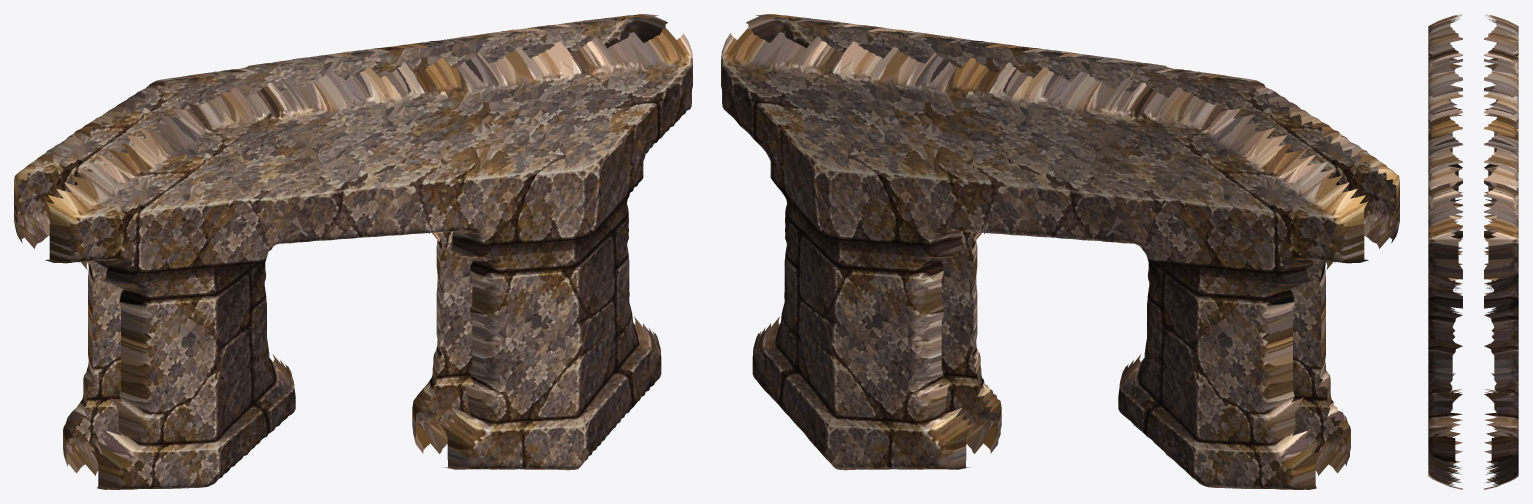
File: v4-crypt-chamber-scatter-empty-altar.glb
The picture shows the model from 3 angles, left to right: view 1: azimuth 30°, elevation 25°; view 2: azimuth 150°, elevation 25°; view 3: azimuth 270°, elevation 25°; orthographic projection. The views are drawn at different scales.
Visible parts, largest first — view 1: v4-crypt-chamber-scatter-empty-altar; view 2: v4-crypt-chamber-scatter-empty-altar; view 3: v4-crypt-chamber-scatter-empty-altar.
Part boxes in pixels (x1=…): v4-crypt-chamber-scatter-empty-altar: x1=14, y1=14, x2=692, y2=489; v4-crypt-chamber-scatter-empty-altar: x1=721, y1=14, x2=1399, y2=489; v4-crypt-chamber-scatter-empty-altar: x1=1428, y1=14, x2=1518, y2=489.
Bounding box in the file's own units: 1.22 × 0.8345 × 0.204.
1 material, 1 textured.
